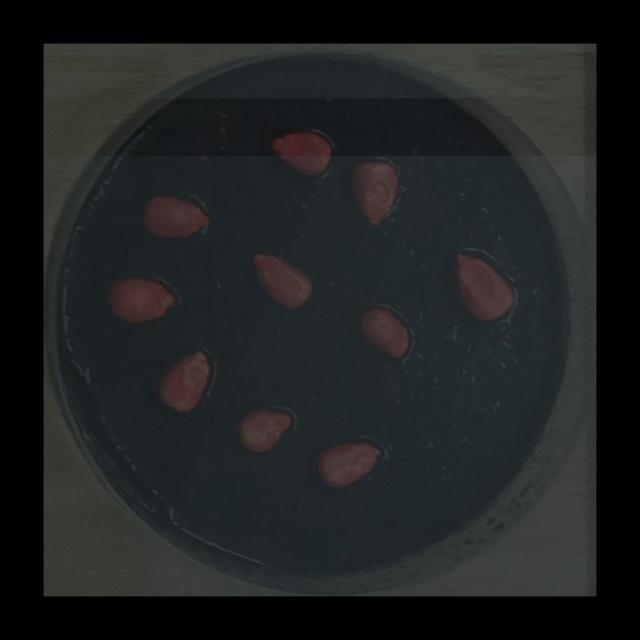Zea mays: (448, 246, 520, 326), (150, 342, 218, 419), (244, 247, 319, 314), (345, 153, 404, 232), (312, 434, 387, 495), (264, 122, 338, 182), (103, 272, 182, 328), (136, 190, 214, 245), (354, 302, 416, 364), (233, 405, 300, 459)
